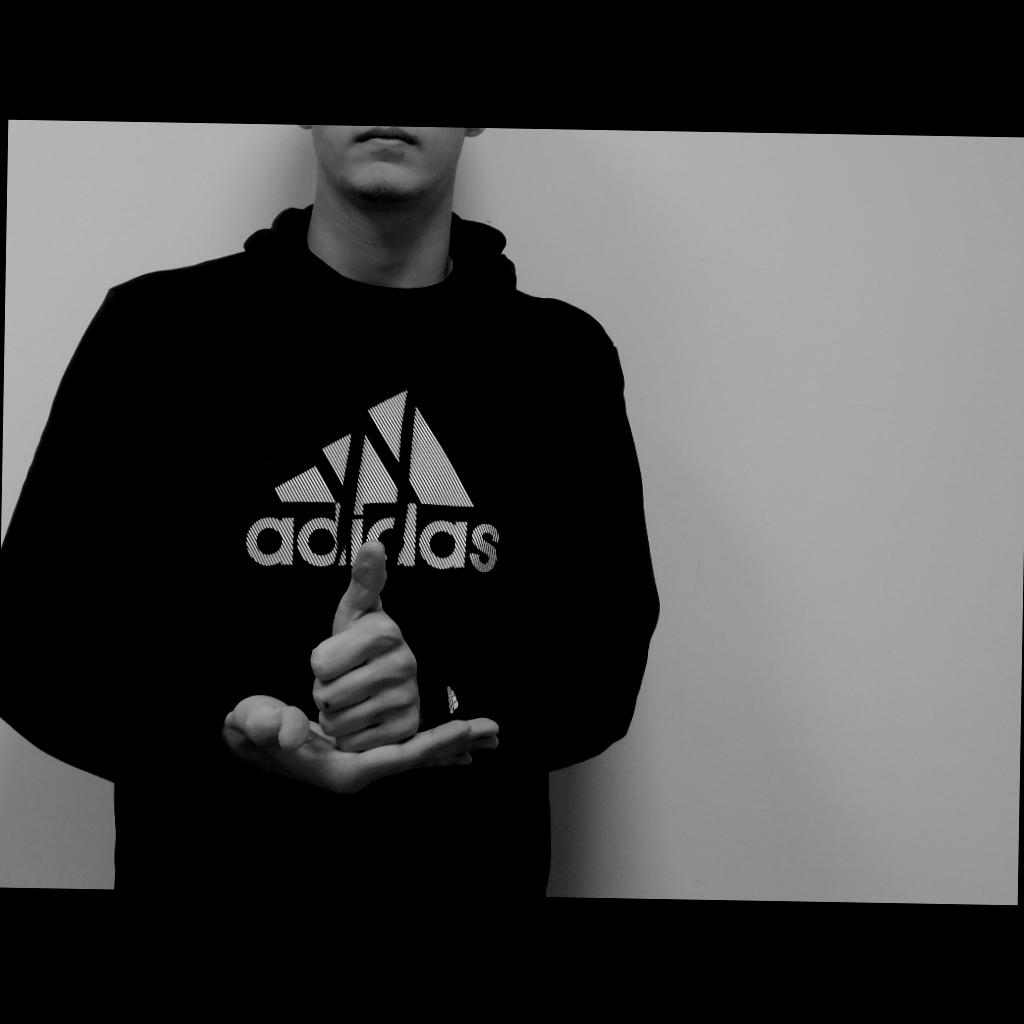help: (234, 536, 503, 796)
